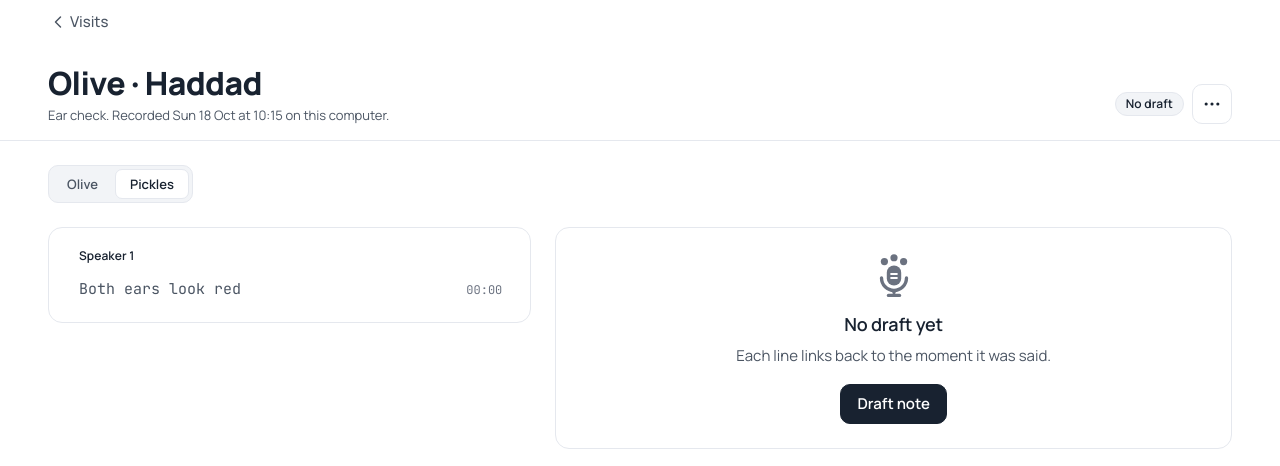
Test case: Review: deleting › disables Delete visit on a signed visit, with the reason
Click the button named "More actions".
click(1212, 104)  # box [1192,84,1232,124]
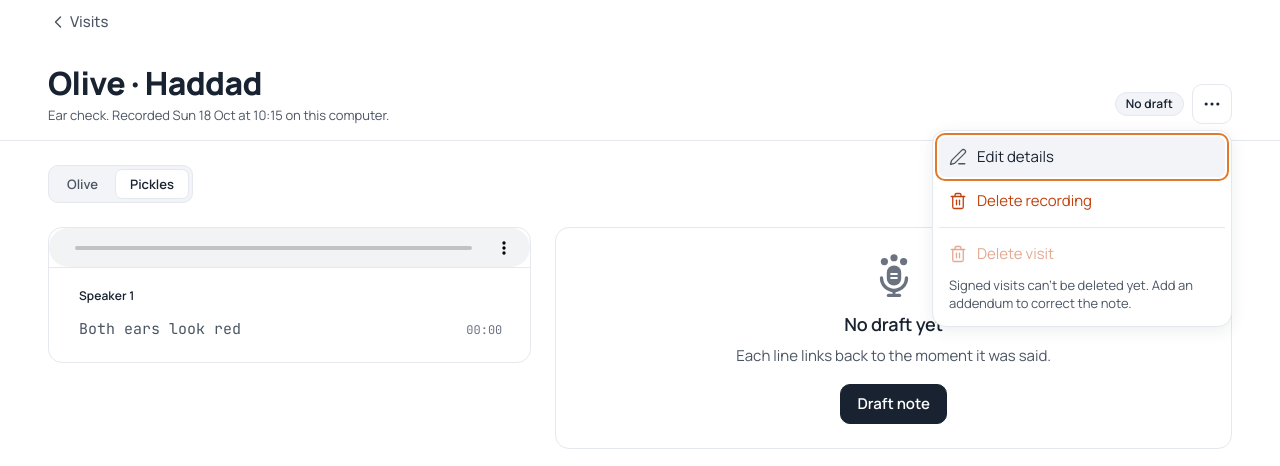
Expected: the button "Delete visit" is disabled, [939,234,1225,274]
